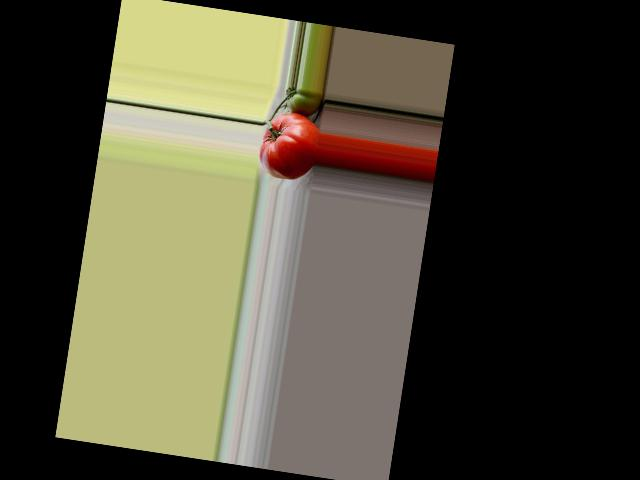tomato: (256, 109, 323, 184)
